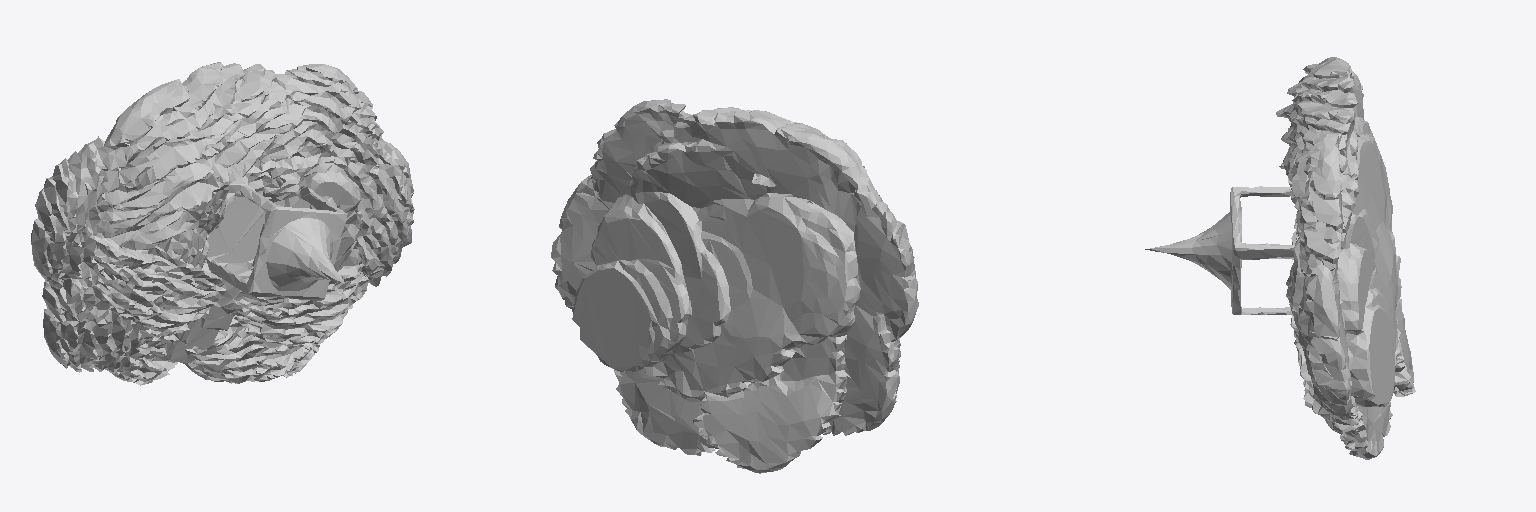
File: castleinskyv.obj
3 renders of one model, left to right at view 1: azimuth 30°, elevation 25°; view 2: azimuth 150°, elevation 25°; view 3: azimuth 270°, elevation 25°, orthographic.
Parts seen in each view (by area): view 1: Layer_2; view 2: Layer_2; view 3: Layer_2.
Part boxes in pixels (bbox=[...]): Layer_2: bbox=[31, 62, 414, 385]; Layer_2: bbox=[551, 99, 918, 473]; Layer_2: bbox=[1145, 57, 1415, 459].
Size of the model in its own units: 0.9911 by 0.8653 by 0.6306.